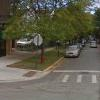Tree: (9, 1, 100, 44)
